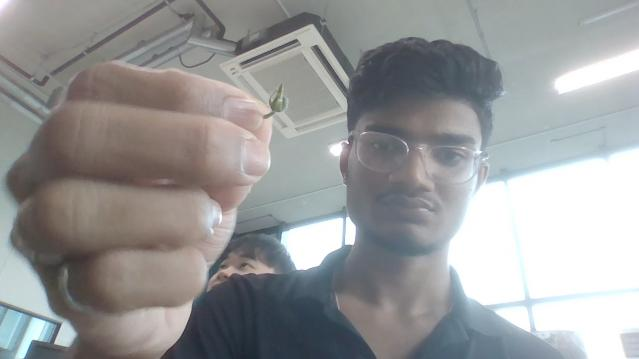Fruit Bud: (269, 83, 288, 113)
